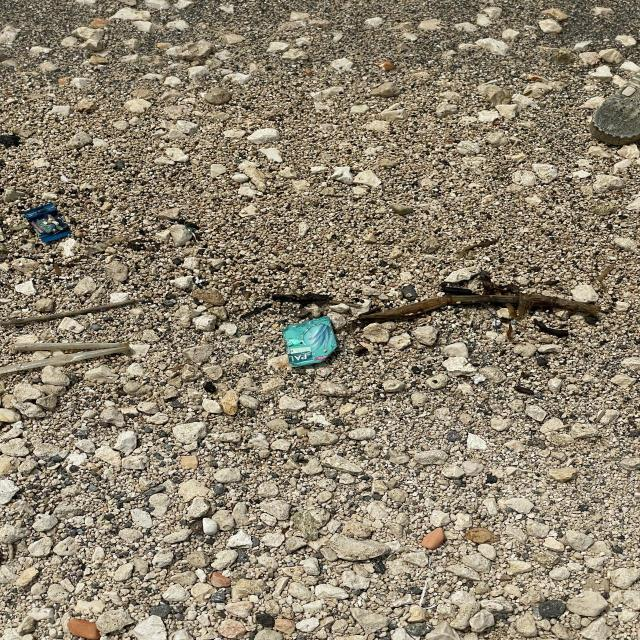plastic_waste: (283, 317, 340, 370), (25, 203, 74, 244)
